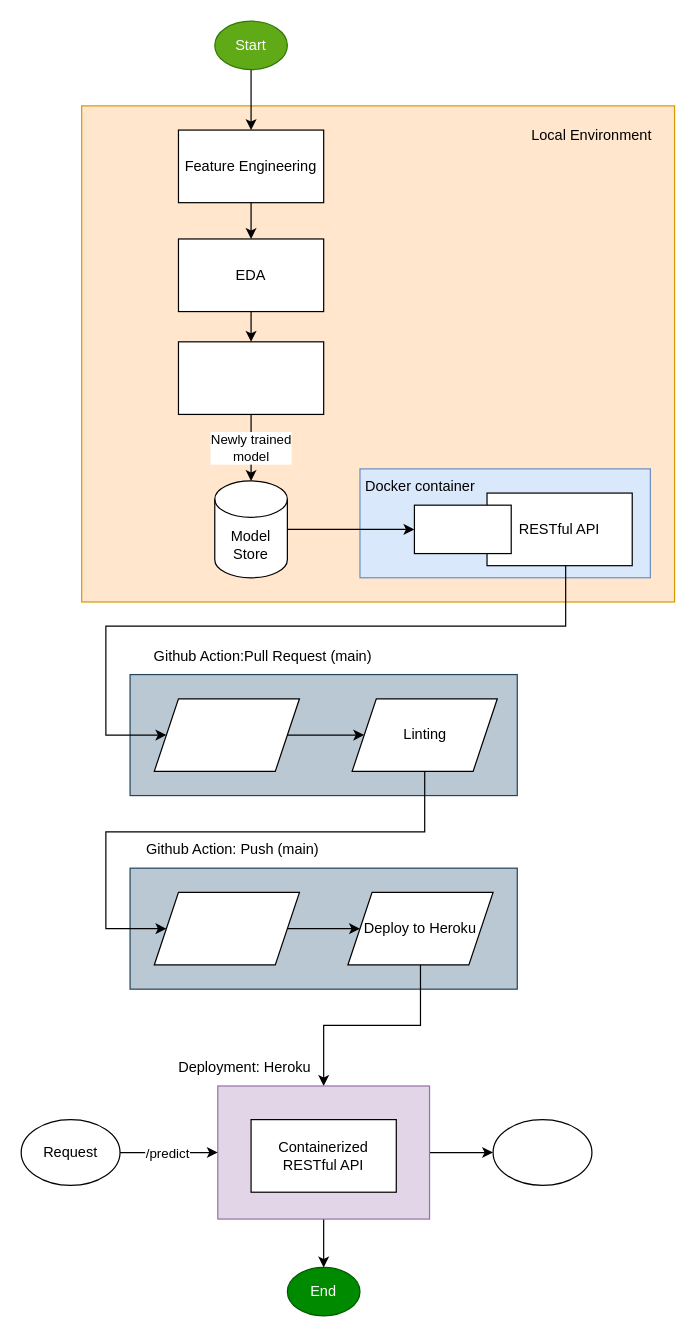
Some shapes in this 696 by 1337 pixel diagram are drawn without their labels. Here are the shapes that lost their labels. From the top down, the centre of each, then its label:
At (x=250, y=377): "Offline Training".
At (x=462, y=529): "latest model".
At (x=226, y=734): "Pytest".
At (x=226, y=928): "Dockerize Application".
At (x=542, y=1151): "Response".
